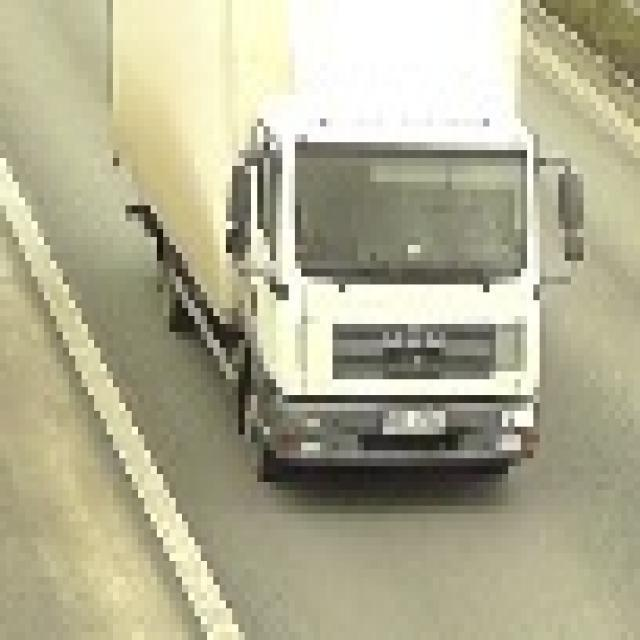truck: (113, 0, 590, 482)
